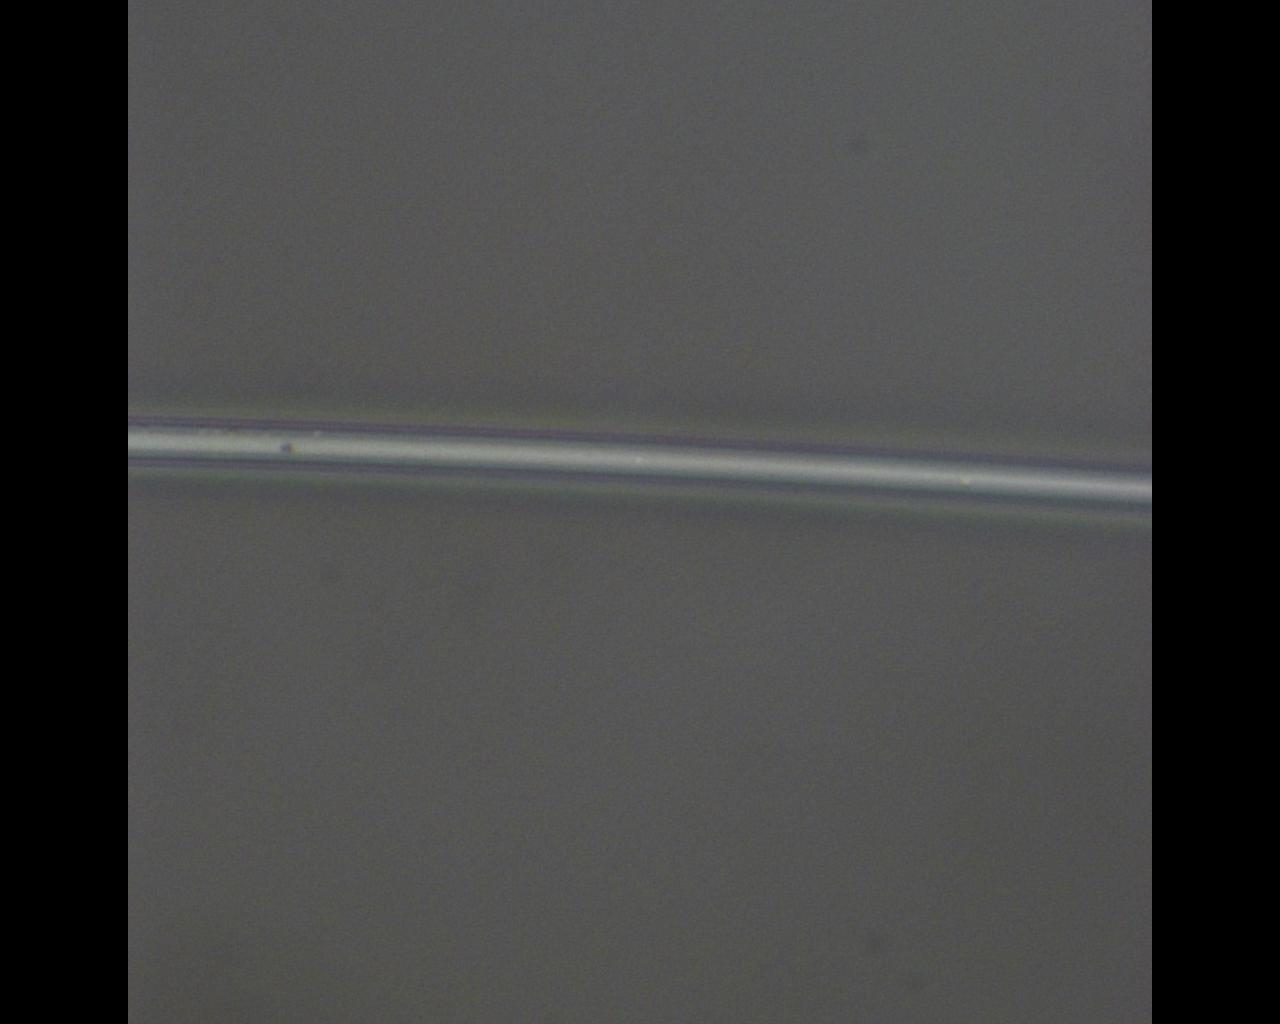fiber: (127, 410, 1151, 513)
